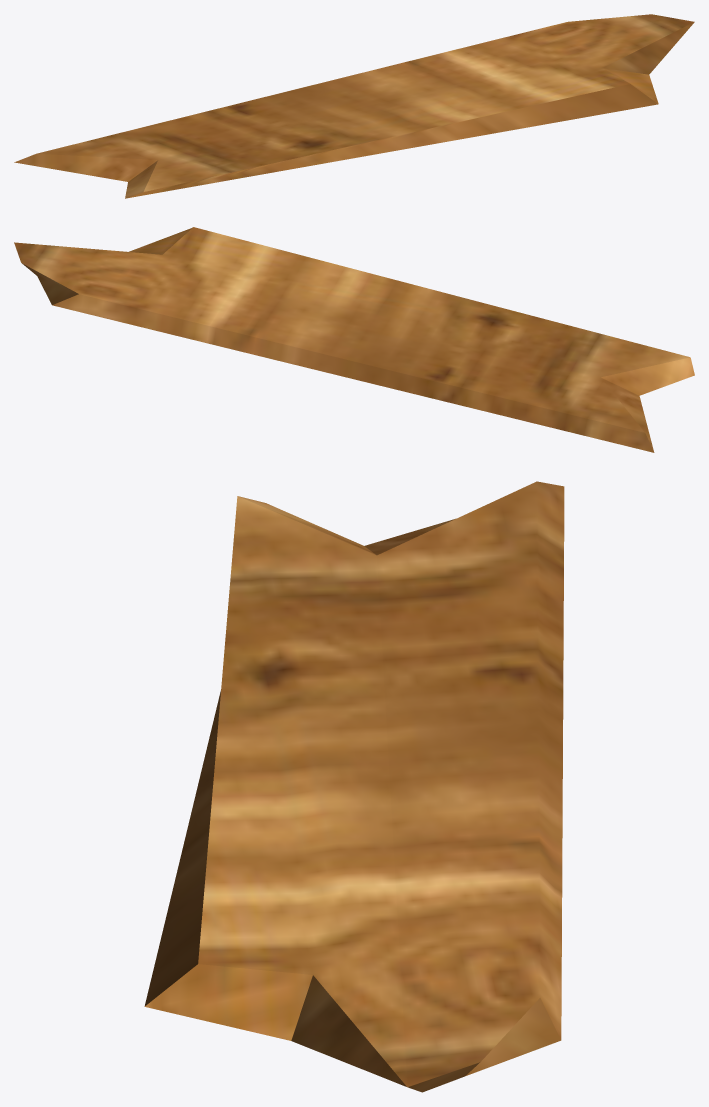
Rendered from 20200816_WoodPanel_bloken2.fbx.
3 renders of one model, top to bottom at view 1: azimuth 30°, elevation 25°; view 2: azimuth 150°, elevation 25°; view 3: azimuth 270°, elevation 25°, orthographic. The views are drawn at different scales.
Visible parts, largest first — view 1: Plane.002; view 2: Plane.002; view 3: Plane.002.
Boxes of the visible parts, box(x1,y1,x2,y2) form: Plane.002: box(14, 14, 694, 198); Plane.002: box(14, 227, 694, 452); Plane.002: box(144, 481, 564, 1092).
Size of the model in its own units: 562 by 20.37 by 159.
